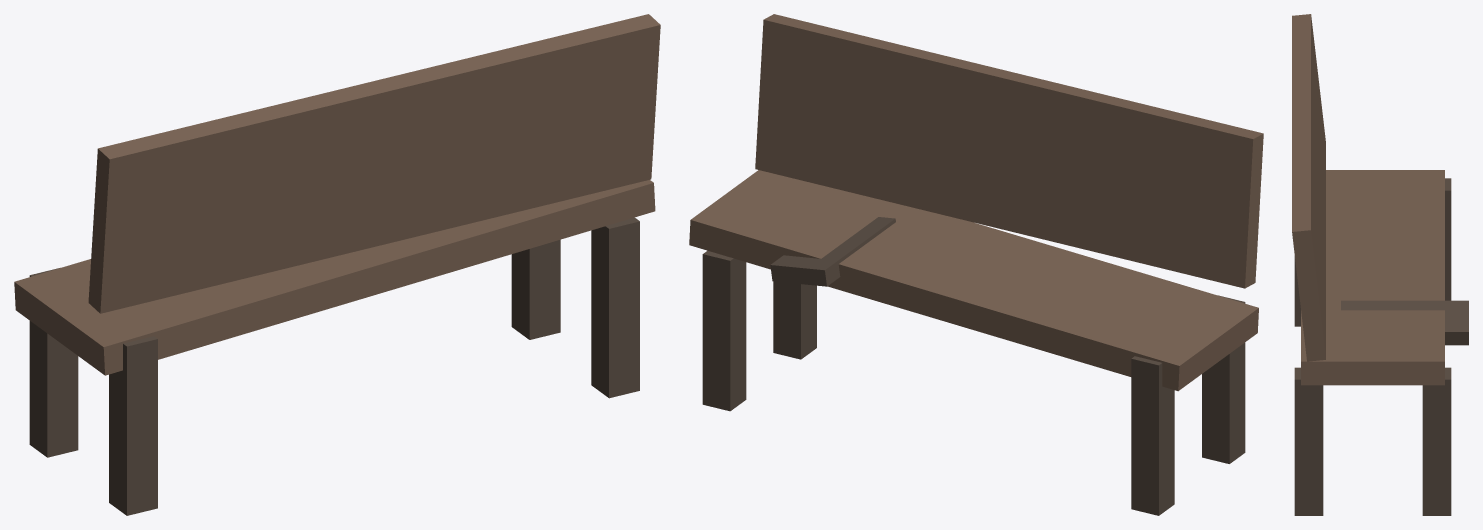
Rendered from prop_bench_old.glb.
3 views of the same model, side by side, from view 1: azimuth 30°, elevation 25°; view 2: azimuth 150°, elevation 25°; view 3: azimuth 270°, elevation 25° (orthographic). The views are drawn at different scales.
Parts seen in each view (by area): view 1: bench_old; view 2: bench_old; view 3: bench_old.
Boxes of the visible parts, bbox=[...] form: bench_old: bbox=[14, 14, 660, 515]; bench_old: bbox=[689, 14, 1263, 515]; bench_old: bbox=[1292, 14, 1468, 515].
Size of the model in its own units: 1.6 by 1.01 by 0.5534.
